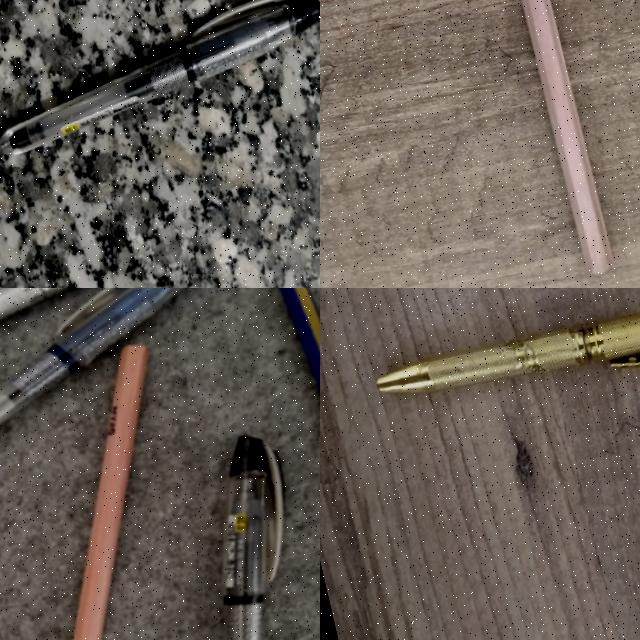pen: (0, 0, 319, 156), (148, 435, 320, 640), (0, 288, 173, 419)
pencil: (521, 0, 612, 274), (72, 342, 154, 640)
signature pen: (376, 313, 639, 393)
